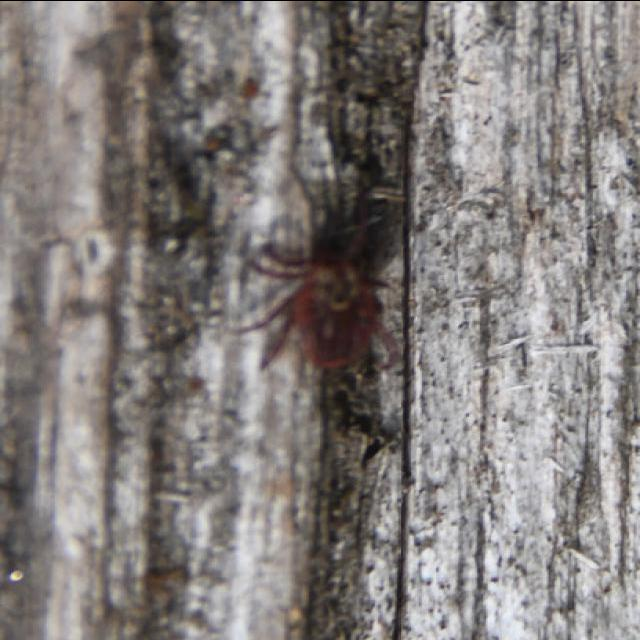Dermacentor Reticulatus-F: (240, 223, 397, 370)
